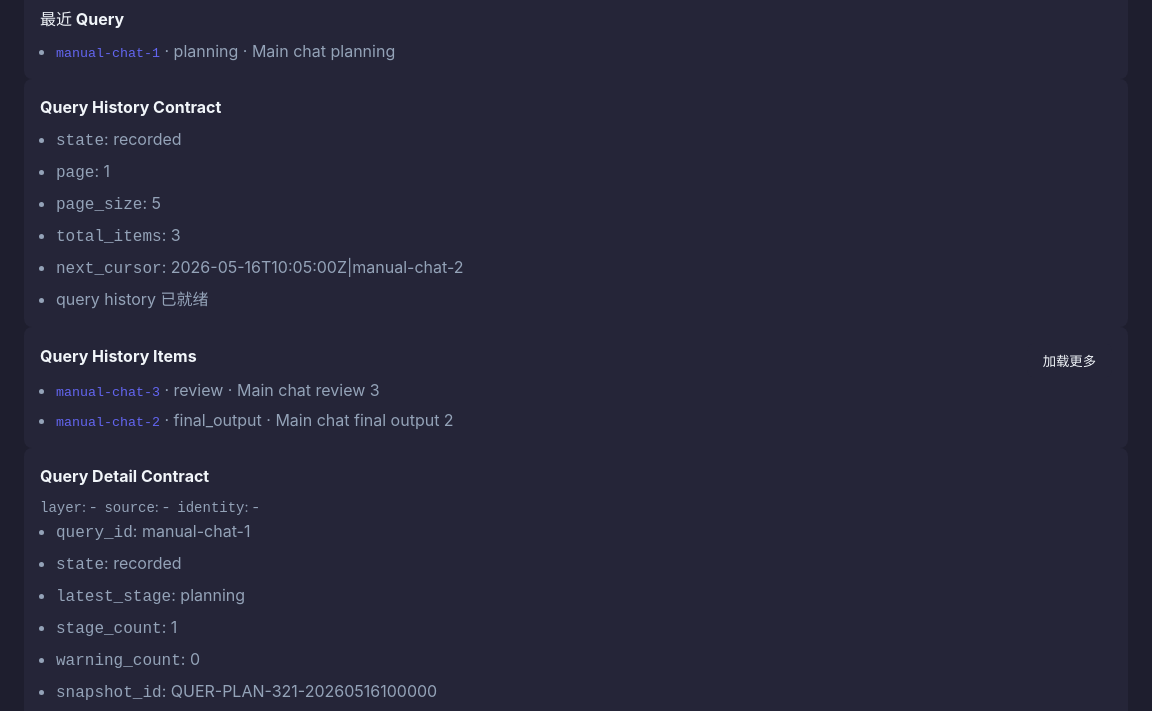
RuntimeSurfacePanel › loads more main chat query history items
Click the button "加载更多": (1069, 360) [1027,343,1112,378]
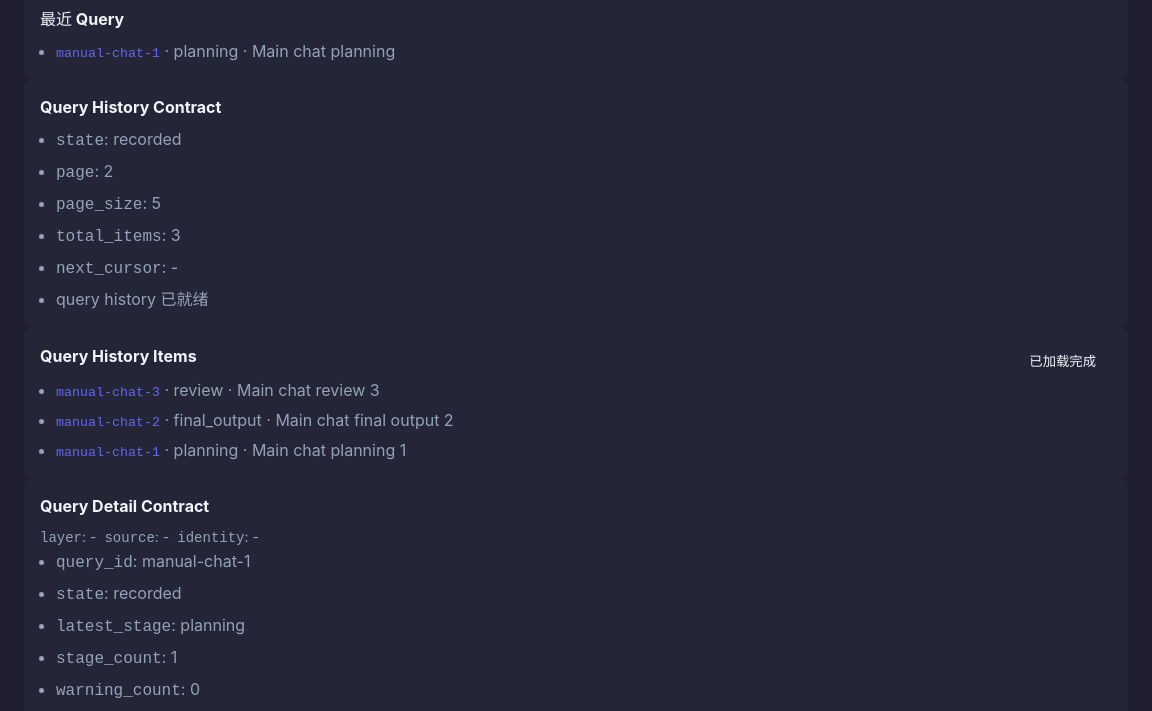
Expected: the text "Main chat planning 1" is shown, [160,440,406,460]
